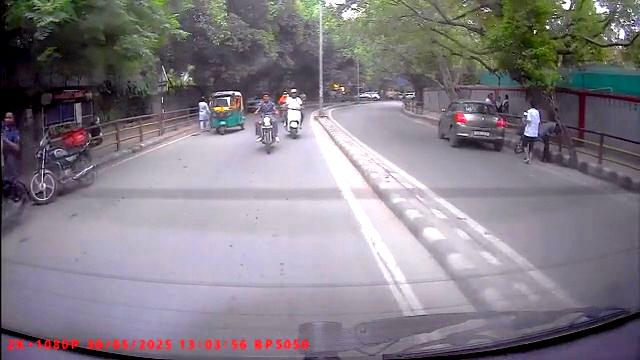motorcycle_with_helmet: (254, 91, 281, 155), (284, 87, 304, 140)
motorcycle_without_helmet: (254, 91, 281, 155)
